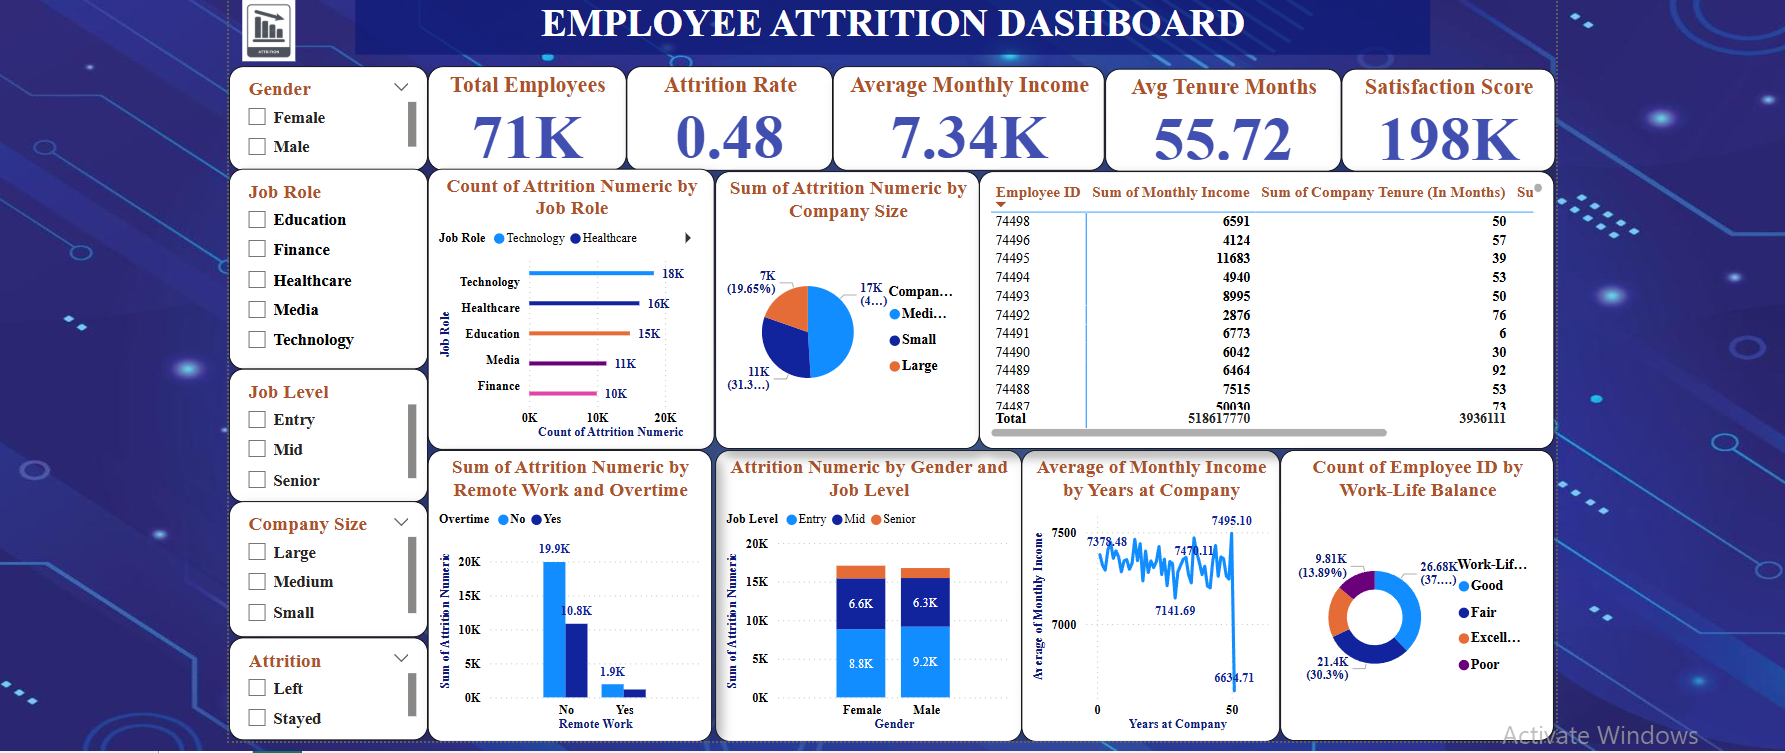

This screenshot's page, from the dashboard's own definition file:
{"tool":"powerbi","page":{"name":"Page 1","canvas":[1280,720],"ordinal":0},"visuals":[{"type":"slicer","fields":{"Values":["emp_attrition_csv.Gender"]},"box":[0,69.3,191.9,101],"z":0},{"type":"textbox","box":[121.9,0,1037.5,57.9],"z":1000},{"type":"image","box":[0,0,77.2,68.8],"z":2000},{"type":"slicer","fields":{"Values":["emp_attrition_csv.Job Role"]},"box":[0,167.4,191.9,193.3],"z":3000},{"type":"slicer","fields":{"Values":["emp_attrition_csv.Job Level"]},"box":[0,360.7,191.9,128.4],"z":4000},{"type":"slicer","fields":{"Values":["emp_attrition_csv.Company Size"]},"box":[0,489.1,191.9,131.3],"z":5000},{"type":"slicer","fields":{"Values":["emp_attrition_csv.Attrition"]},"box":[0,620.4,191.9,99.6],"z":6000},{"type":"card","title":"Total Employees","fields":{"Values":["emp_attrition_csv.Total Employees"]},"box":[191.9,69.3,191.9,101],"z":7000},{"type":"card","title":"Attrition Rate","fields":{"Values":["emp_attrition_csv.Attrition Rate"]},"box":[383.8,69.3,199.1,101],"z":8000},{"type":"card","title":"Average Monthly Income","fields":{"Values":["emp_attrition_csv.Average Monthly Income"]},"box":[582.9,69.3,262.6,101],"z":9000},{"type":"card","title":"Avg Tenure Months","fields":{"Values":["emp_attrition_csv.Avg Tenure Months"]},"box":[845.5,70.7,228,99.6],"z":10000},{"type":"card","title":"Satisfaction Score","fields":{"Values":["Sum(emp_attrition_csv.Satisfaction Score)"]},"box":[1073.4,70.7,206.3,99.6],"z":11000},{"type":"clusteredBarChart","title":"Count of Attrition Numeric by Job Role","fields":{"Y":["CountNonNull(emp_attrition_csv.Attrition Numeric)"],"Category":["emp_attrition_csv.Job Role"],"Series":["emp_attrition_csv.Job Role"]},"box":[191.9,167.4,277,271.2],"z":12000},{"type":"columnChart","title":"Attrition Numeric by Gender and Job Level","fields":{"Category":["emp_attrition_csv.Gender"],"Y":["Sum(emp_attrition_csv.Attrition Numeric)"],"Series":["emp_attrition_csv.Job Level"]},"box":[468.9,438.6,295.8,281.3],"z":13000},{"type":"pieChart","fields":{"Y":["Sum(emp_attrition_csv.Attrition Numeric)"],"Category":["emp_attrition_csv.Company Size"]},"box":[468.9,170.2,255.4,268.4],"z":14000},{"type":"lineChart","fields":{"Category":["emp_attrition_csv.Years at Company"],"Y":["Avg(emp_attrition_csv.Monthly Income)"]},"box":[764.7,438.6,249.6,281.3],"z":15000},{"type":"clusteredColumnChart","fields":{"Category":["emp_attrition_csv.Remote Work"],"Y":["Sum(emp_attrition_csv.Attrition Numeric)"],"Series":["emp_attrition_csv.Overtime"]},"box":[191.9,438.6,274.1,281.3],"z":16000},{"type":"pivotTable","fields":{"Rows":["emp_attrition_csv.ï»¿Employee ID"],"Values":["Sum(emp_attrition_csv.Monthly Income)","Sum(emp_attrition_csv.Company Tenure (In Months))","Sum(emp_attrition_csv.Performance Score)"]},"box":[724.3,170.2,555.5,268.4],"z":17000},{"type":"donutChart","fields":{"Category":["emp_attrition_csv.Work-Life Balance"],"Y":["CountNonNull(emp_attrition_csv.Employee ID)"]},"box":[1015,439,264,281],"z":18000}]}

Visuals, with their boxes in screenshot pixels (x1, y1, x2, y2):
slicer - emp_attrition_csv.Gender: <bbox>228, 67, 426, 171</bbox>
textbox: <bbox>354, 0, 1424, 55</bbox>
image: <bbox>228, 0, 307, 66</bbox>
slicer - emp_attrition_csv.Job Role: <bbox>228, 168, 426, 367</bbox>
slicer - emp_attrition_csv.Job Level: <bbox>228, 367, 426, 500</bbox>
slicer - emp_attrition_csv.Company Size: <bbox>228, 500, 426, 635</bbox>
slicer - emp_attrition_csv.Attrition: <bbox>228, 635, 426, 738</bbox>
"Total Employees" card: <bbox>426, 67, 624, 171</bbox>
"Attrition Rate" card: <bbox>624, 67, 829, 171</bbox>
"Average Monthly Income" card: <bbox>829, 67, 1100, 171</bbox>
"Avg Tenure Months" card: <bbox>1100, 68, 1335, 171</bbox>
"Satisfaction Score" card: <bbox>1335, 68, 1548, 171</bbox>
"Count of Attrition Numeric by Job Role" clusteredBarChart: <bbox>426, 168, 711, 448</bbox>
"Attrition Numeric by Gender and Job Level" columnChart: <bbox>711, 448, 1017, 738</bbox>
pieChart - Sum(emp_attrition_csv.Attrition Numeric) x emp_attrition_csv.Company Size: <bbox>711, 171, 975, 448</bbox>
lineChart - emp_attrition_csv.Years at Company x Avg(emp_attrition_csv.Monthly Income): <bbox>1017, 448, 1274, 738</bbox>
clusteredColumnChart - emp_attrition_csv.Remote Work x Sum(emp_attrition_csv.Attrition Numeric): <bbox>426, 448, 708, 738</bbox>
pivotTable - emp_attrition_csv.ï»¿Employee ID x Sum(emp_attrition_csv.Monthly Income): <bbox>975, 171, 1548, 448</bbox>
donutChart - emp_attrition_csv.Work-Life Balance x CountNonNull(emp_attrition_csv.Employee ID): <bbox>1275, 448, 1547, 738</bbox>
